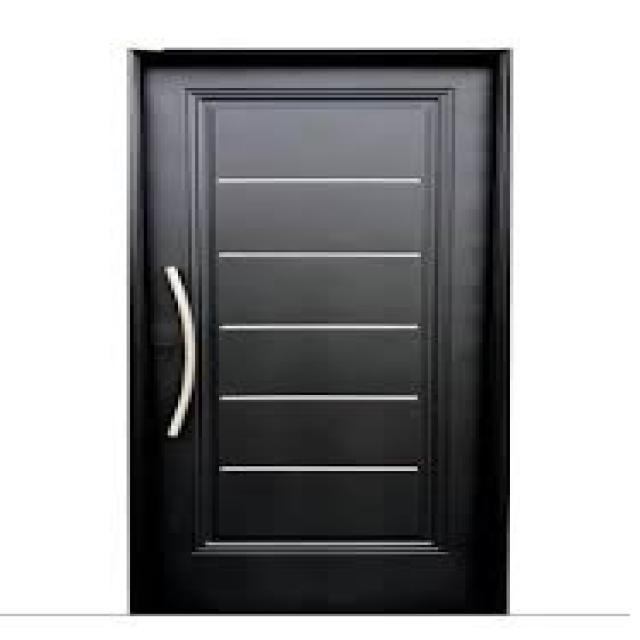door: (130, 49, 510, 615)
